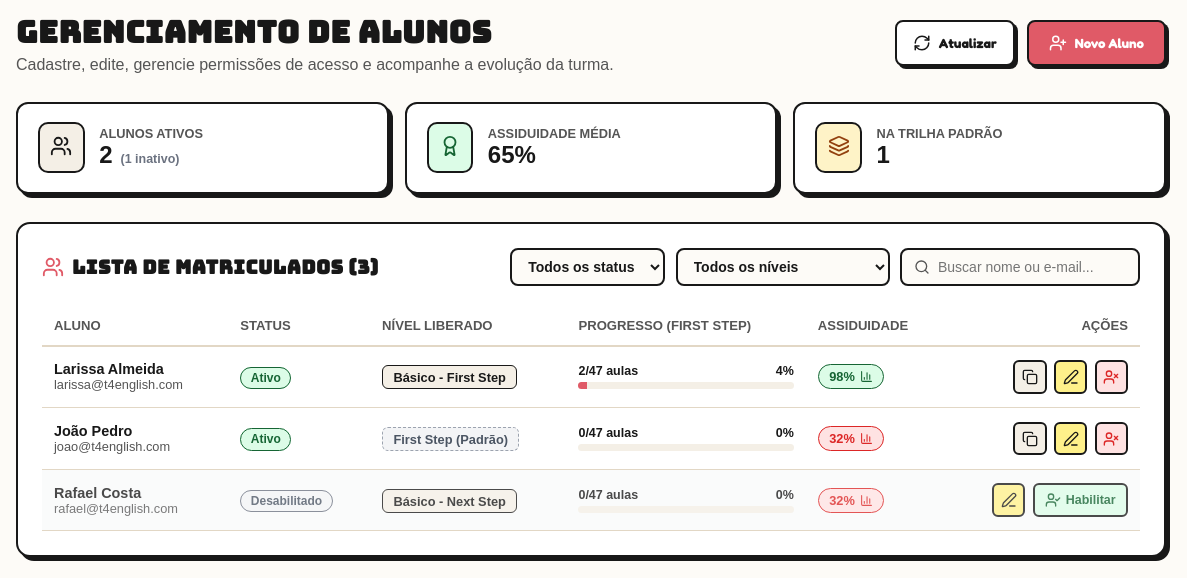
Test: Página StudentManagement (Gestão Completa e Assiduidade Automática) › deve filtrar alunos por status, nível e busca por e-mail
Expected: the text "Larissa Almeida" is shown, x1=54 y1=361 x2=164 y2=377
Select "Desabilitados" in the dropdown named "Filtrar alunos por status" at (588, 267), box x1=510 y1=248 x2=665 y2=286
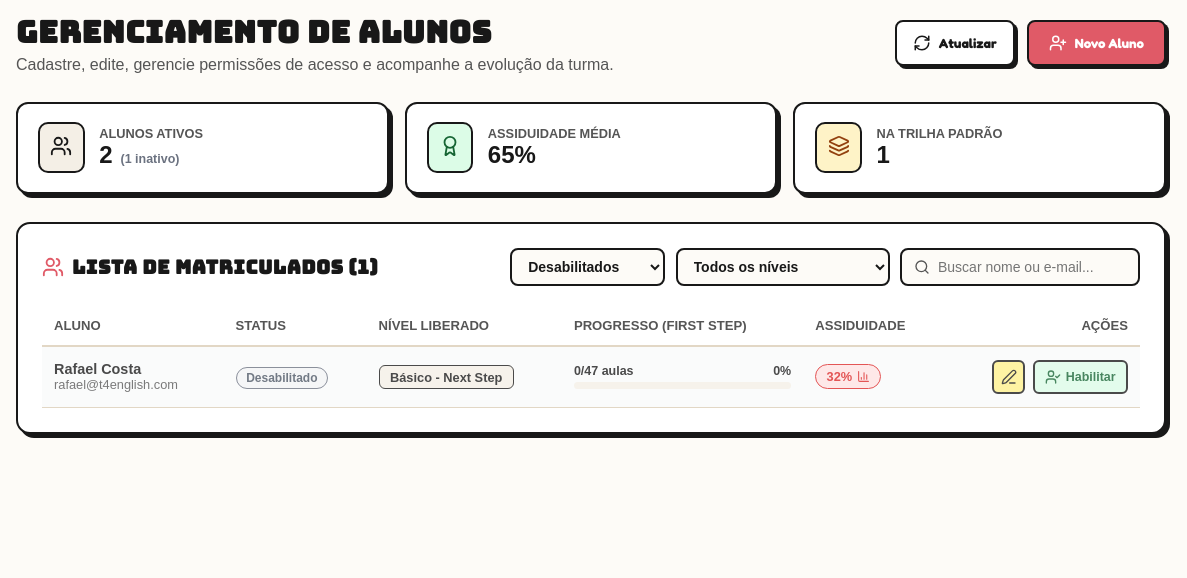
Expected: the text "Rafael Costa" is shown, x1=54 y1=361 x2=141 y2=377
Expected: the text "Larissa Almeida" is gone
Select "Todos os status" in the dropdown named "Filtrar alunos por status" at (588, 267), box x1=510 y1=248 x2=665 y2=286
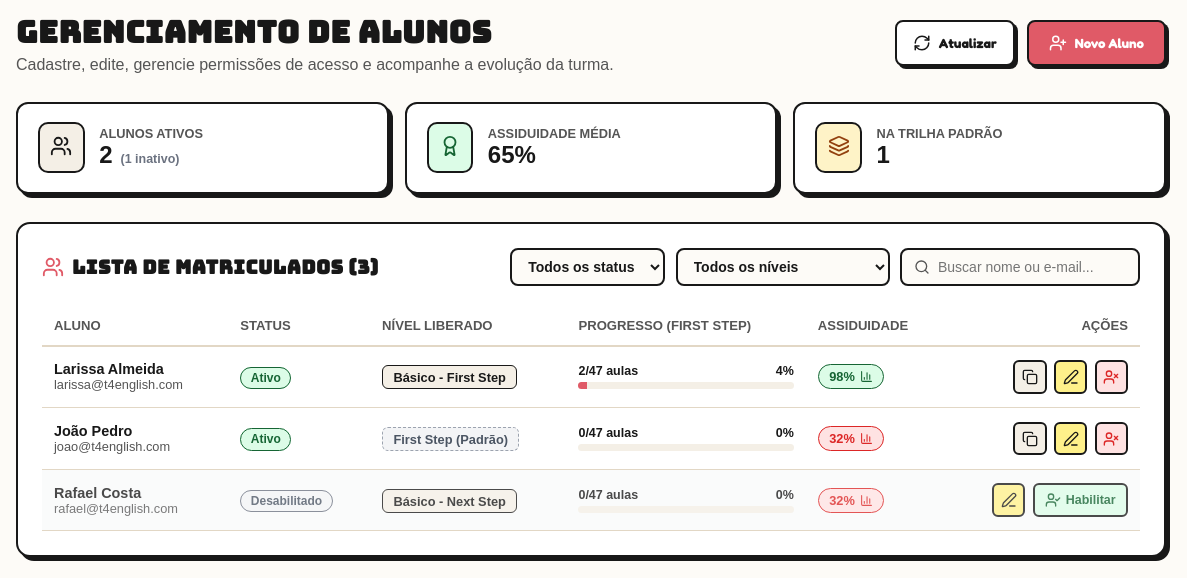
Select "Trilha Padrão (sem nível)" in the dropdown named "Filtrar alunos por nível" at (783, 267), box x1=676 y1=248 x2=890 y2=286
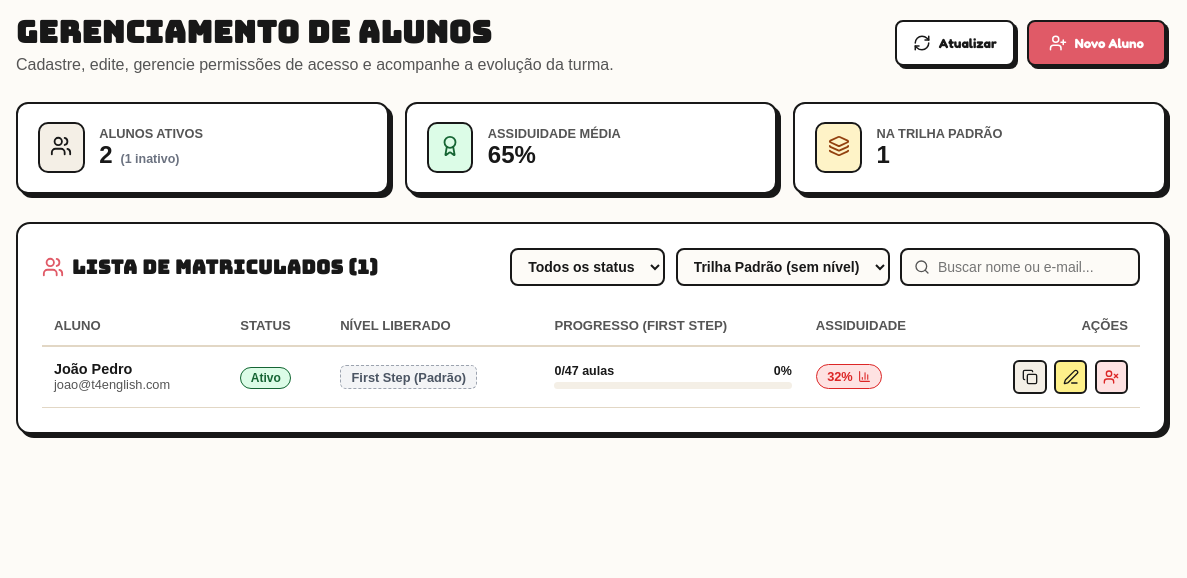
Expected: the text "João Pedro" is shown, x1=54 y1=361 x2=132 y2=377
Expected: the text "Larissa Almeida" is gone
Select "Todos os níveis" in the dropdown named "Filtrar alunos por nível" at (783, 267), box x1=676 y1=248 x2=890 y2=286
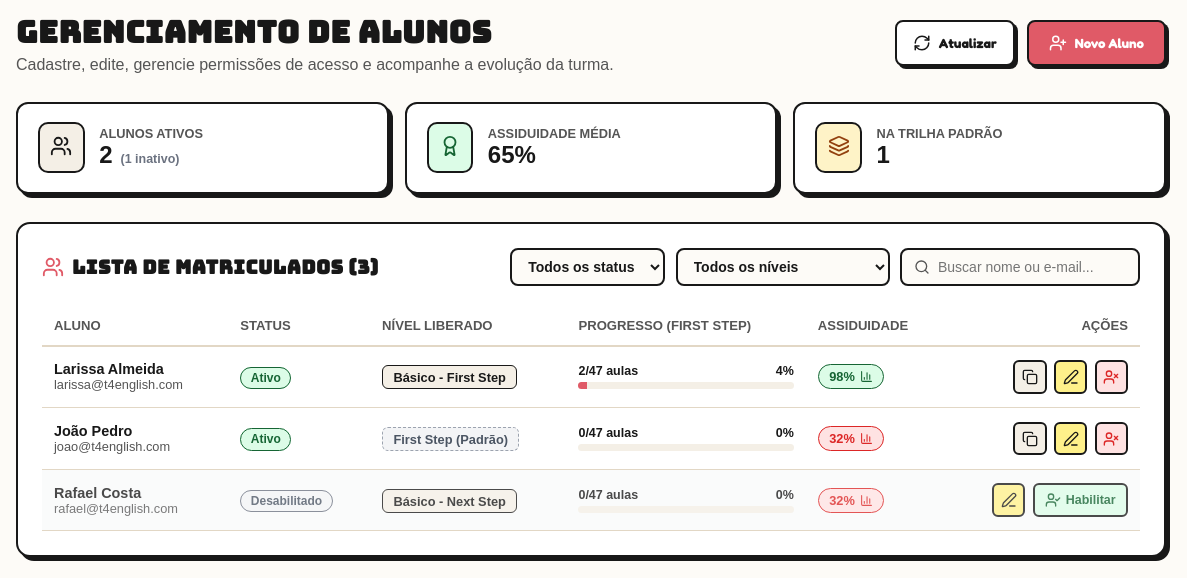
Type "larissa@" into the field with placeholder "Buscar nome ou e-mail..." at (1032, 267), box x1=938 y1=259 x2=1126 y2=275
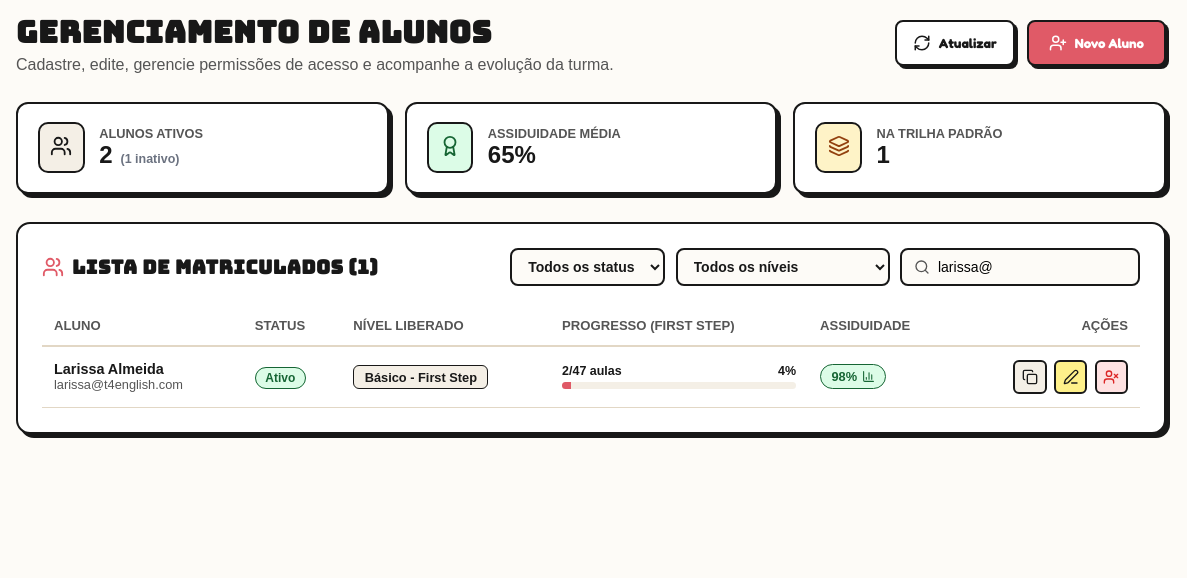
Expected: the text "Larissa Almeida" is shown, x1=54 y1=361 x2=164 y2=377
Expected: the text "João Pedro" is gone
